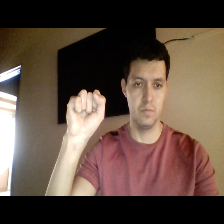9D: (60, 86, 109, 148)
